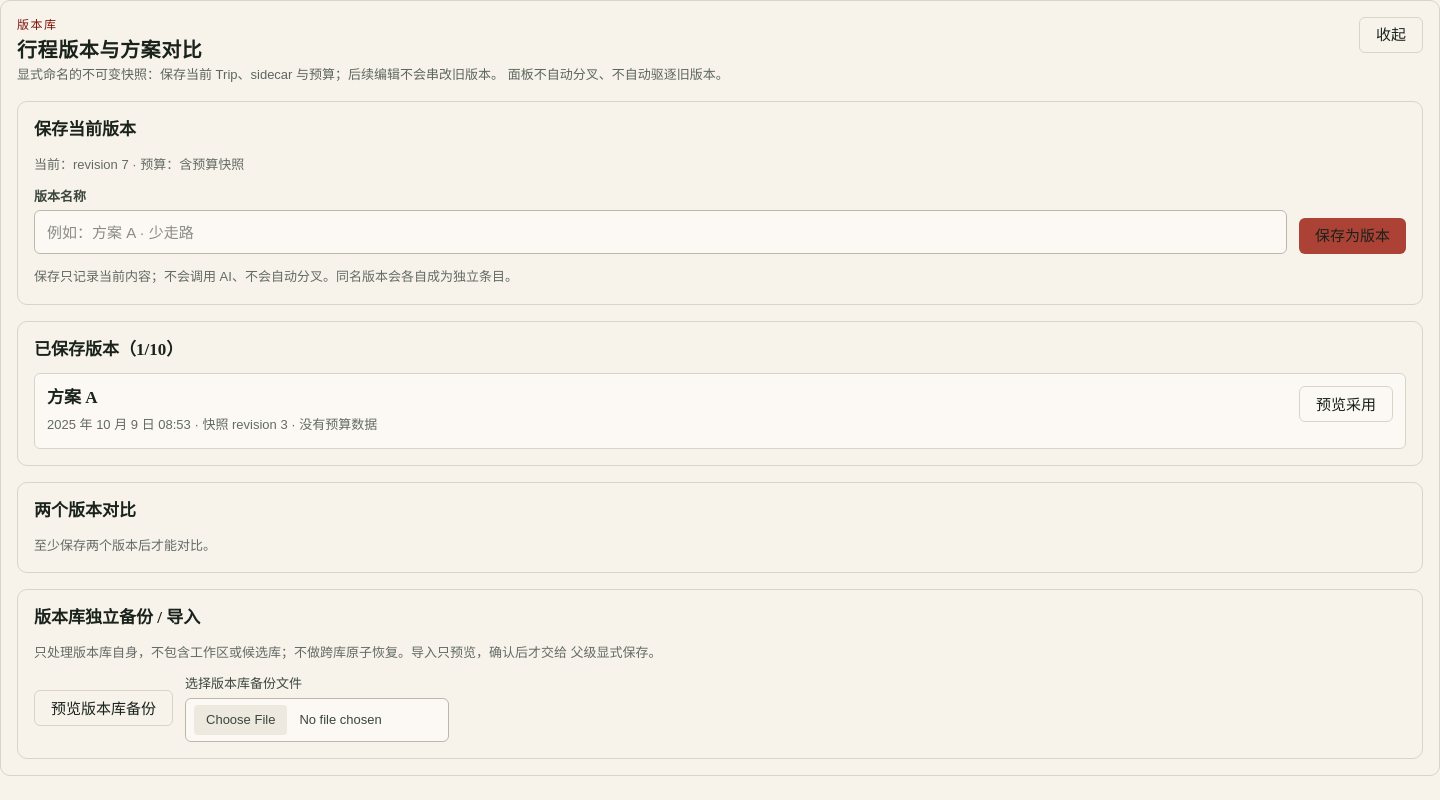
it: VersionsPanel：对比与独立备份 › 备份预览只显示版本库范围；下载按钮调用 callback，未点击前不调用
Later steps or results of the test are not shown.
Click the button "预览版本库备份" at (104, 708), box [34,690,173,726]
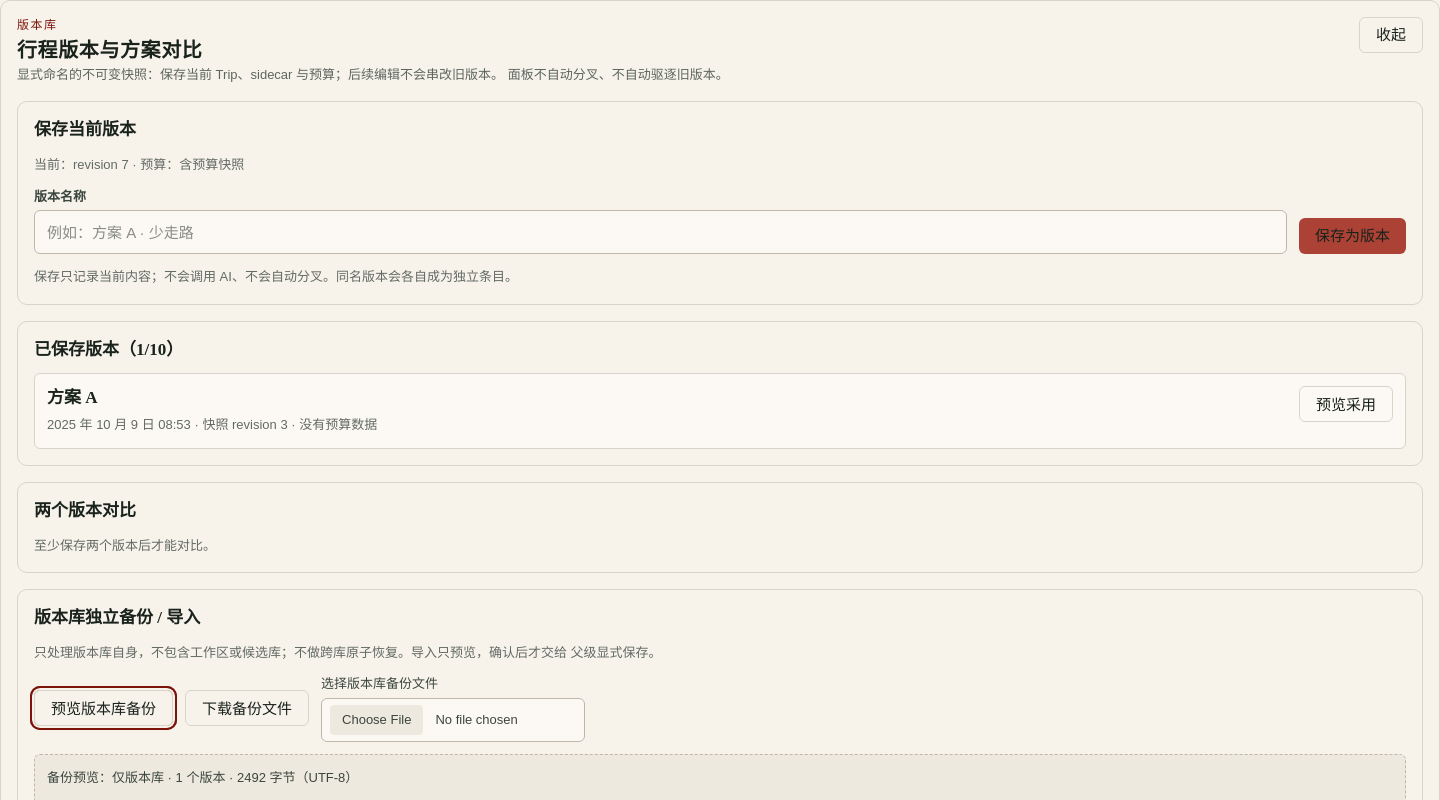
Expected: the text "备份预览：仅版本库 · 1 个版本 · 2492 字节（UTF-8）" is shown, [47,770,358,785]
